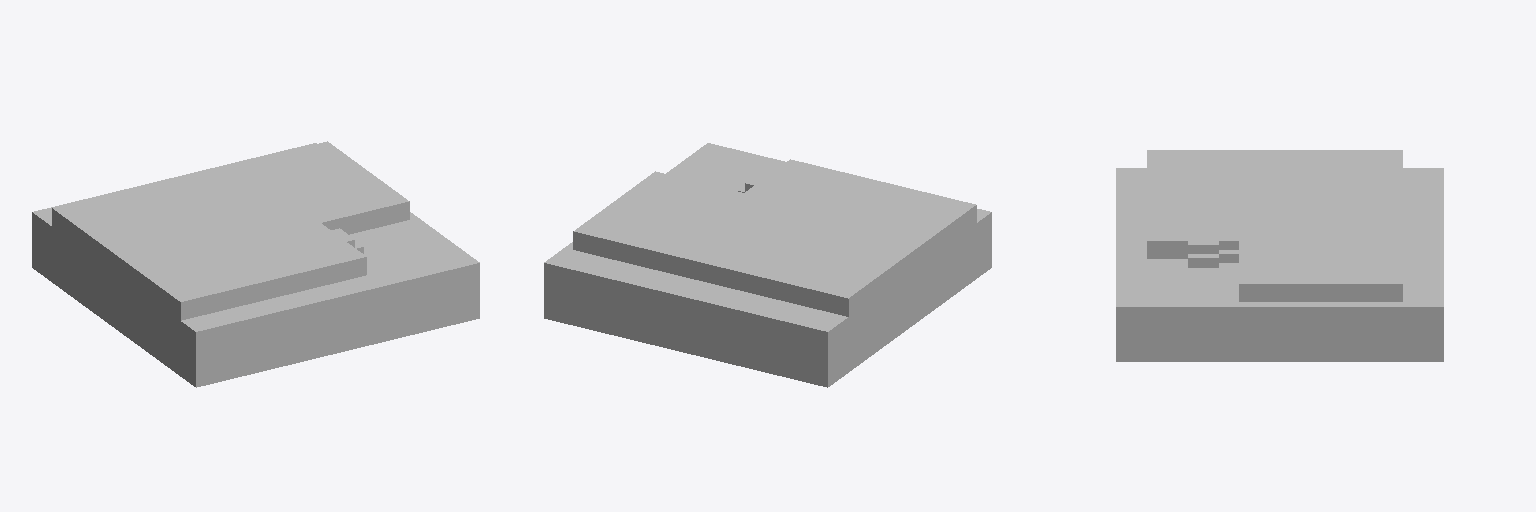
The model's file is ground.obj.
3 views of the same model, side by side, from view 1: azimuth 30°, elevation 25°; view 2: azimuth 150°, elevation 25°; view 3: azimuth 270°, elevation 25° (orthographic).
Visible parts, largest first — view 1: ground; view 2: ground; view 3: ground.
Boxes of the visible parts, x1=… form: ground: x1=32, y1=141, x2=479, y2=387; ground: x1=544, y1=143, x2=991, y2=387; ground: x1=1116, y1=150, x2=1443, y2=361.
Size of the model in its own units: 3.2 by 0.8 by 3.2.